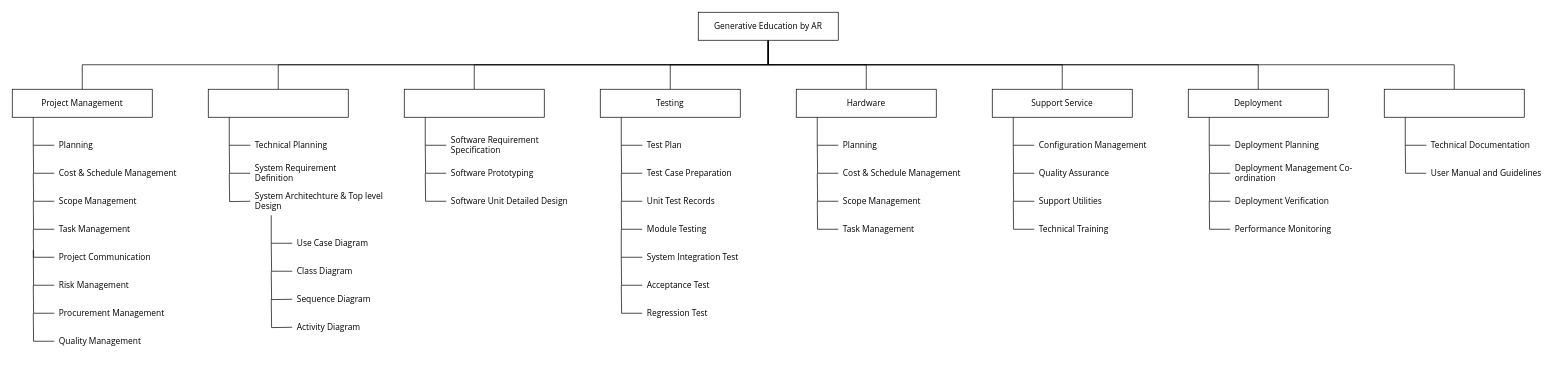
Some shapes in this 1565 by 368 pixel diagram are drawn without their labels. The box of each missing label's shape, as (x1, y1, x2, y2) in pixels:
Documentation: (1384, 89, 1524, 117)
Software Design: (404, 89, 544, 117)
System Engineering: (208, 89, 348, 117)
